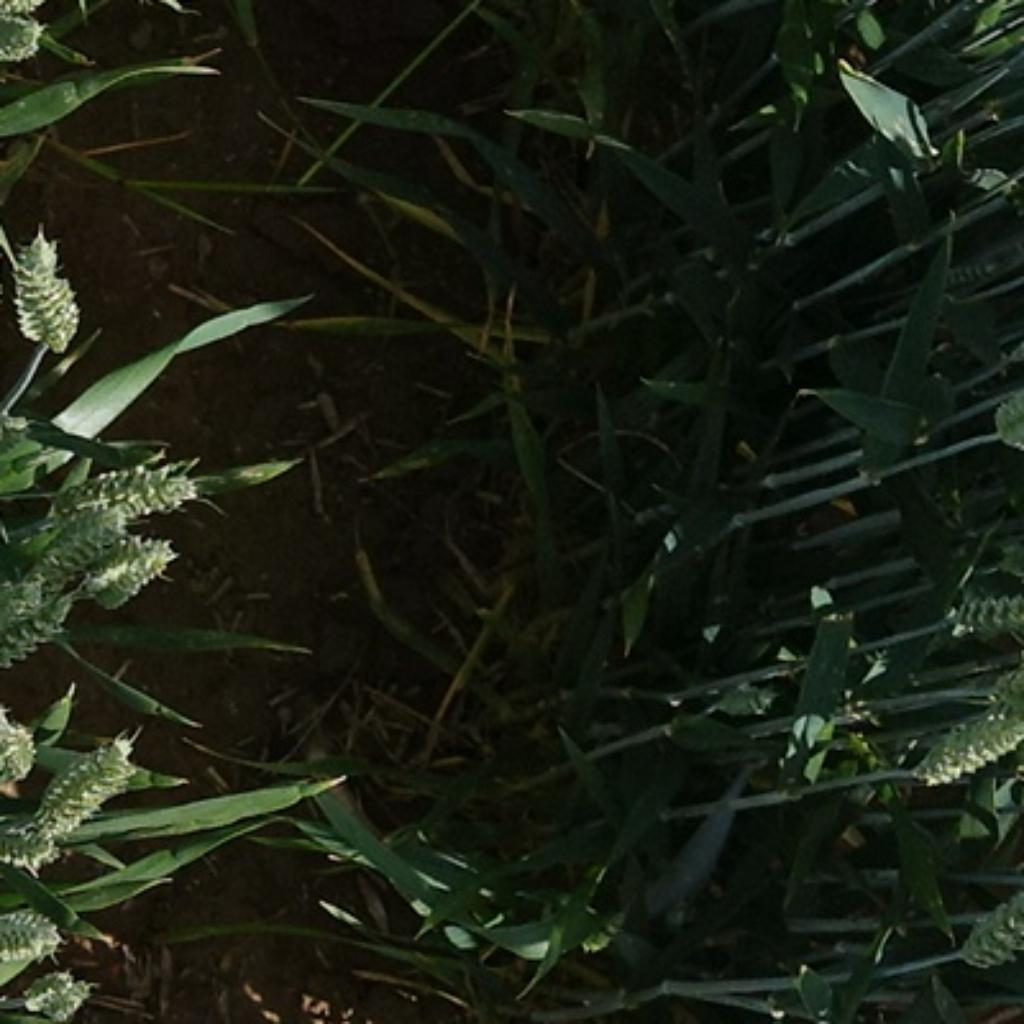0-0: (25, 724, 148, 842), (56, 448, 204, 519), (5, 225, 81, 350), (38, 506, 138, 591), (919, 704, 1024, 783), (84, 529, 179, 604), (1, 605, 70, 674), (960, 898, 1024, 970), (15, 965, 94, 1021), (0, 898, 66, 965), (0, 808, 64, 870), (942, 591, 1024, 637), (0, 5, 48, 71), (933, 257, 1005, 294), (721, 678, 773, 721)
